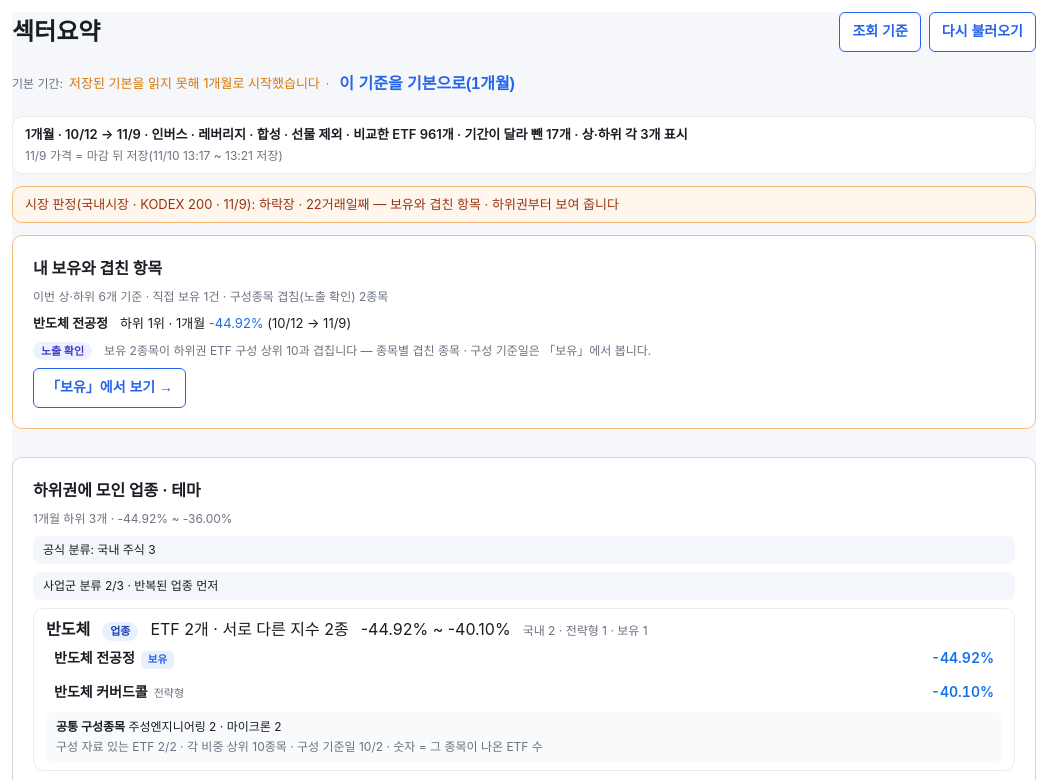
Test: 저장 기간을 확인하지 못함 · 다른 탭 저장(검증자 r1 F2 · PLAN §3-1) › 저장소 읽기 예외 = 실패 안내('저장 없음' 아님) · 1개월 조회 그대로 · 저장에 성공하면 저장됨
The image size is (1048, 780).
Expected: the text with test id "ec-save-notice-sector" reads "저장된 기본을 읽지 못해 1개월로 시작했습니다", left=69, top=75, right=320, bottom=91
Expected: the element with test id "ec-save-sector" does not show "저장 없음", left=12, top=68, right=519, bottom=100
Click the button "이 기준을 기본으로(1개월)". click: (427, 84)
box: left=335, top=68, right=519, bottom=100
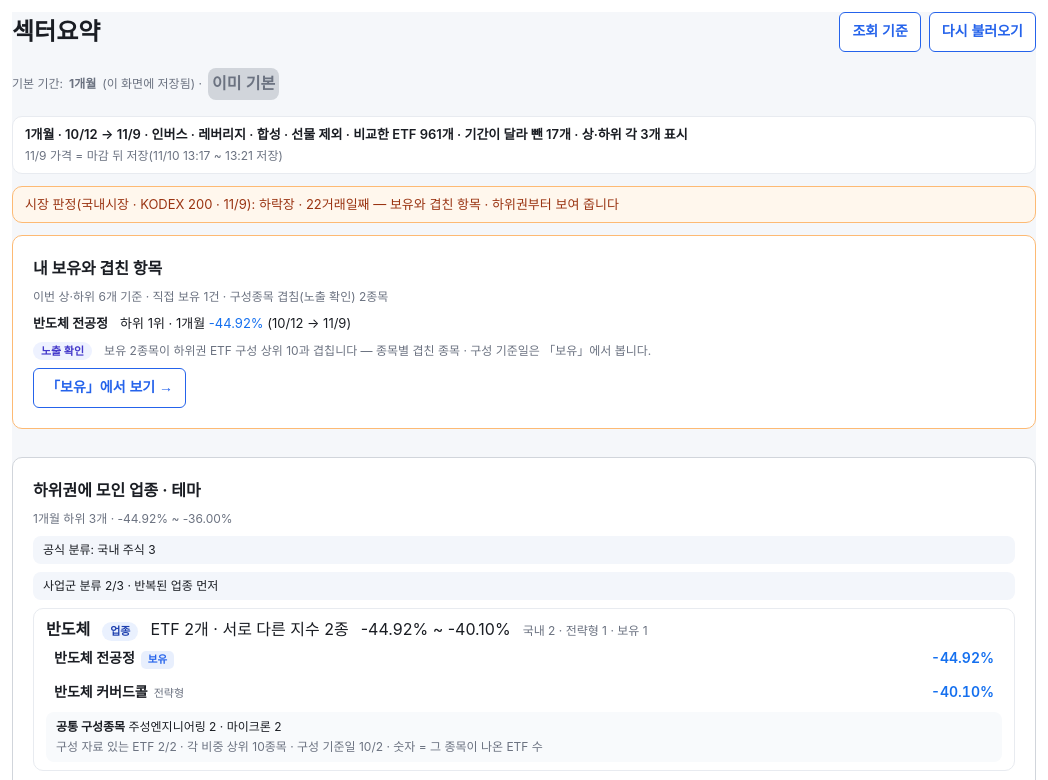
Result: the element with test id "ec-save-sector" shows "기본 기간: 1개월 (이 화면에 저장됨)" at left=12, top=68, right=279, bottom=100
Result: the text with test id "ec-save-notice-sector" is gone
